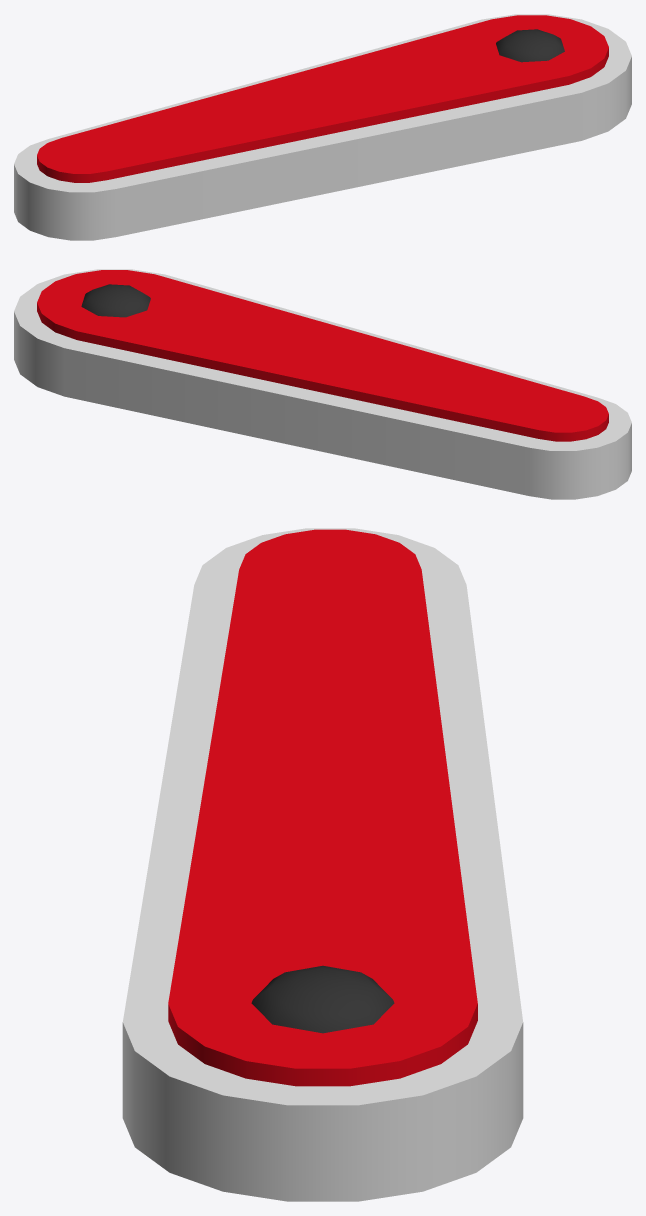
File: Flapper.fbx
3 views of the same model, one above another, from view 1: azimuth 30°, elevation 25°; view 2: azimuth 150°, elevation 25°; view 3: azimuth 270°, elevation 25° (orthographic). The views are drawn at different scales.
Visible parts, largest first — view 1: Cylinder, Sphere; view 2: Cylinder, Sphere; view 3: Cylinder, Sphere.
Part boxes in pixels (box(x1,y1,x2,y2)): Cylinder: box(14, 14, 631, 240); Sphere: box(496, 29, 564, 62); Cylinder: box(14, 269, 631, 499); Sphere: box(81, 284, 150, 317); Cylinder: box(122, 528, 523, 1201); Sphere: box(251, 965, 394, 1033).
Bounding box in the file's own units: 482 × 71.5 × 141.
